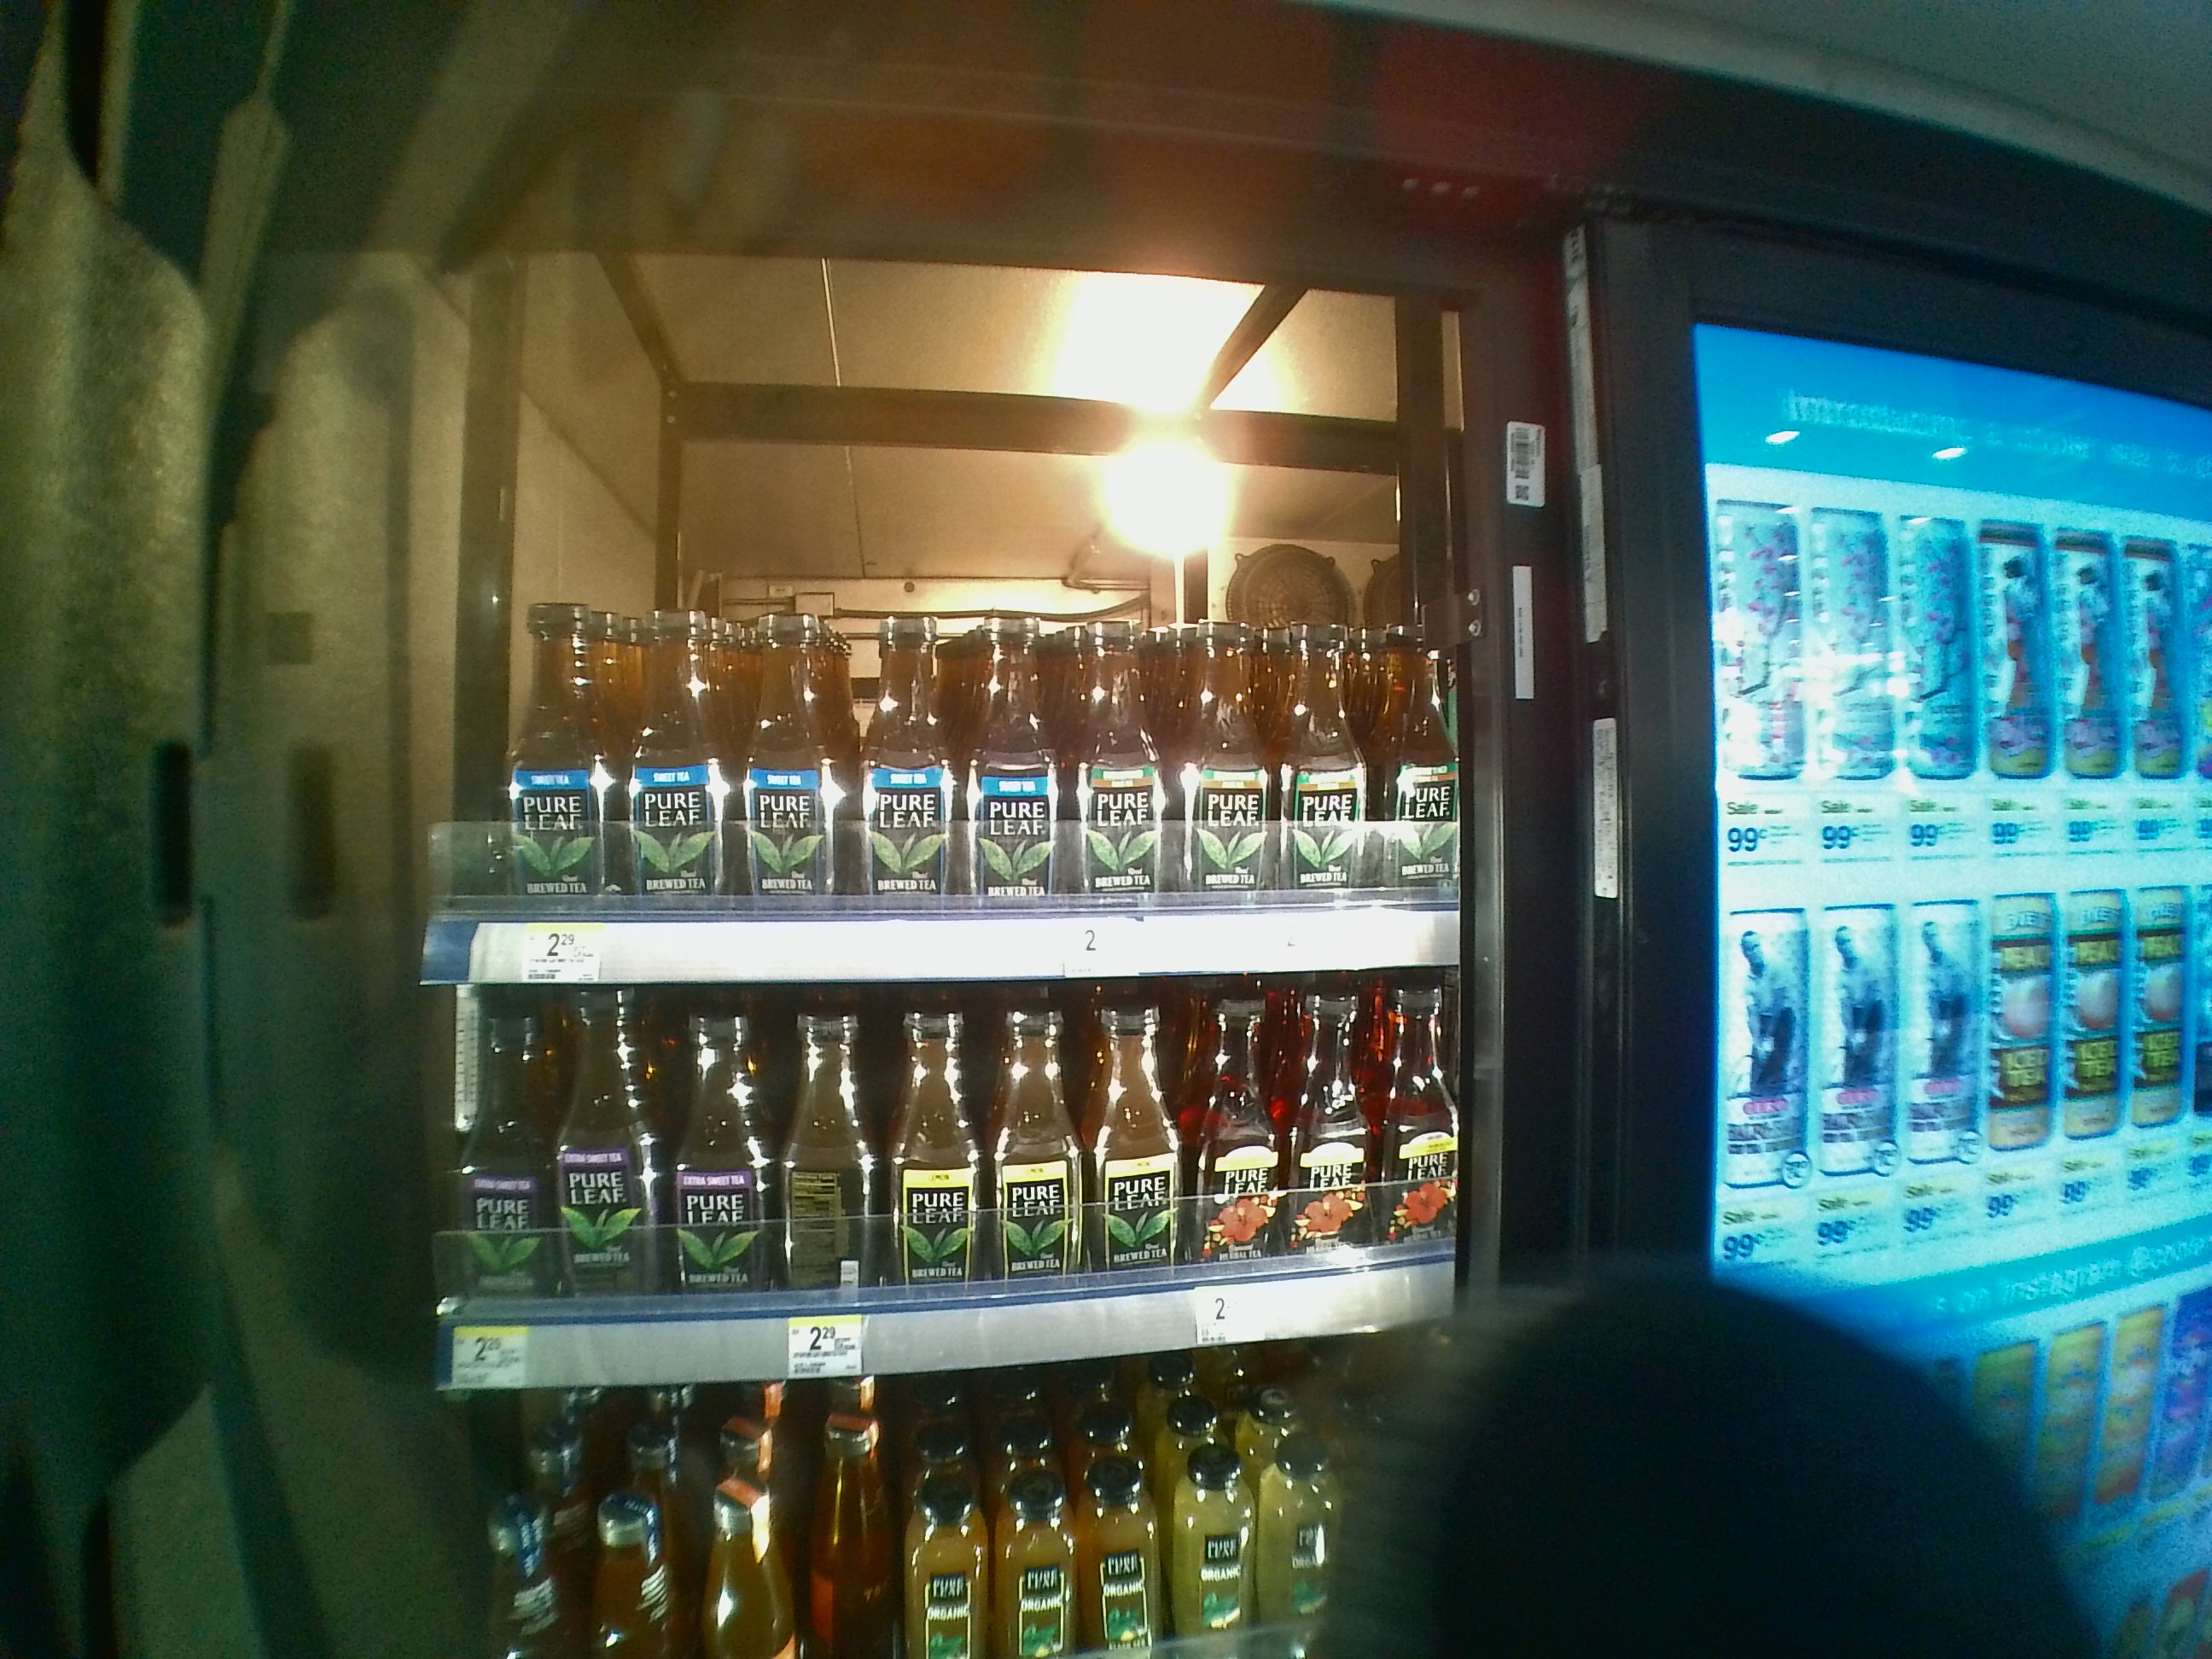shelf: (416, 526, 1463, 969), (421, 988, 1463, 1399)
